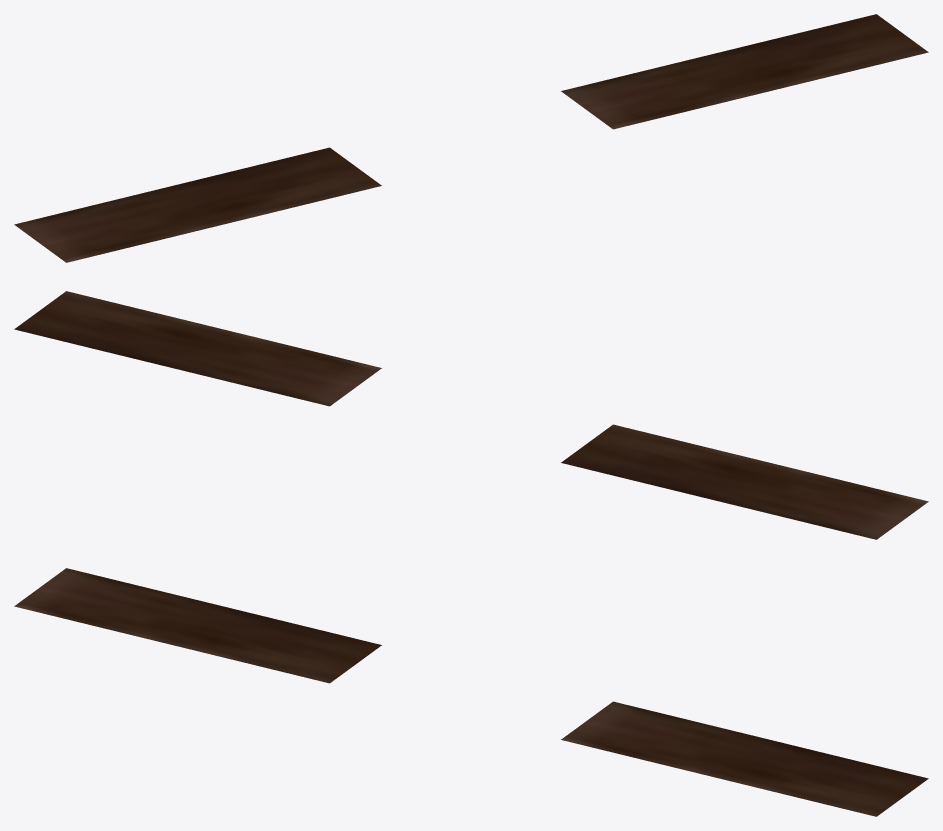
File: pir_m_prp_cem_gate_english_footprint.fbx
3 views of the same model, one above another, from view 1: azimuth 30°, elevation 25°; view 2: azimuth 150°, elevation 25°; view 3: azimuth 330°, elevation 25° (orthographic).
Visible parts, largest first — view 1: footprint; view 2: footprint; view 3: footprint.
Boxes of the visible parts, <box> form: footprint: <box>14,14,928,262</box>; footprint: <box>14,291,928,539</box>; footprint: <box>14,568,928,816</box>.
Size of the model in its own units: 3012 by 5.16e-05 by 317.
Materials: 1 (1 with a texture image).
